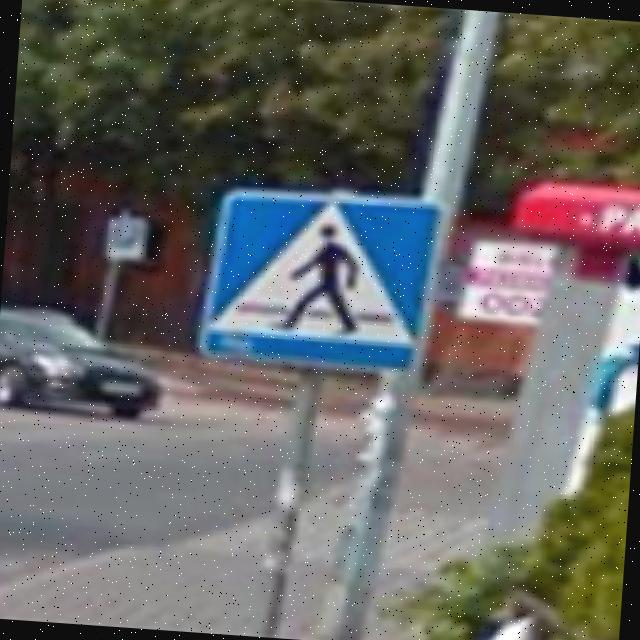Przejscie dla pieszych: (195, 178, 445, 382)
